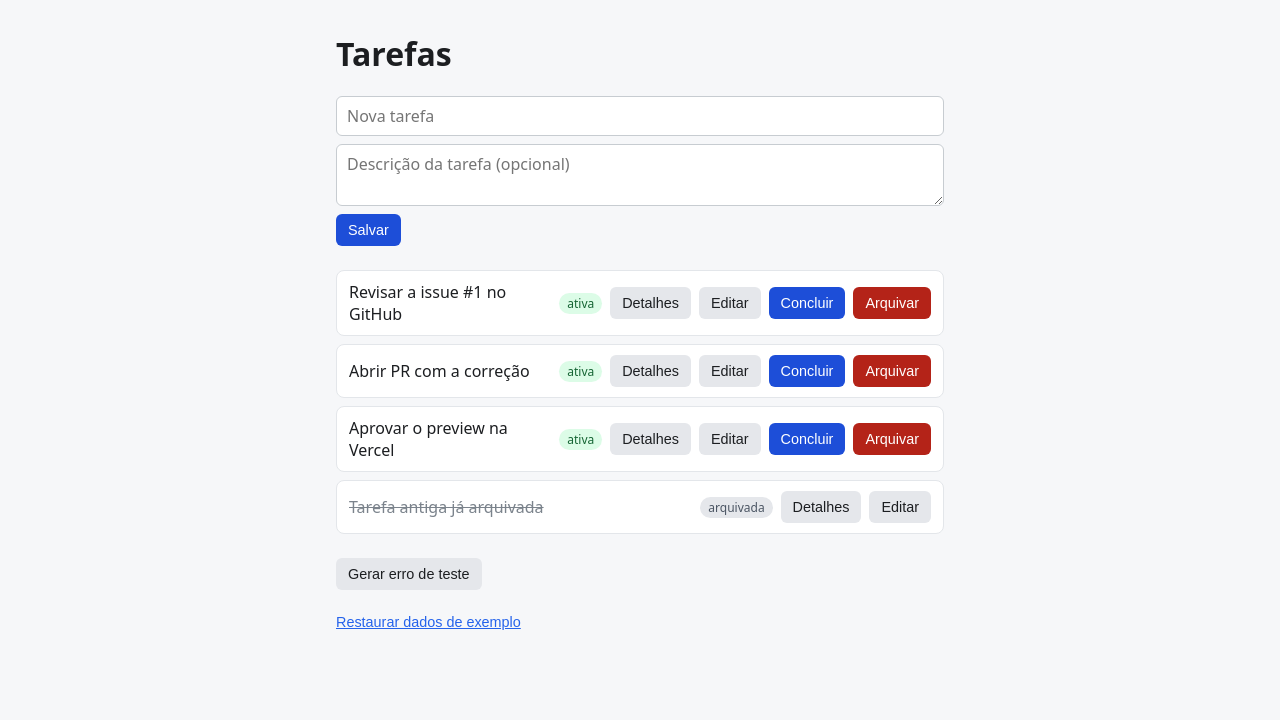
Page › envia um único erro de teste ao Sentry e preserva as tarefas
This screenshot has width=1280, height=720.
Click the button "Gerar erro de teste": (409, 574) [336,558,482,590]
(page scrolled)
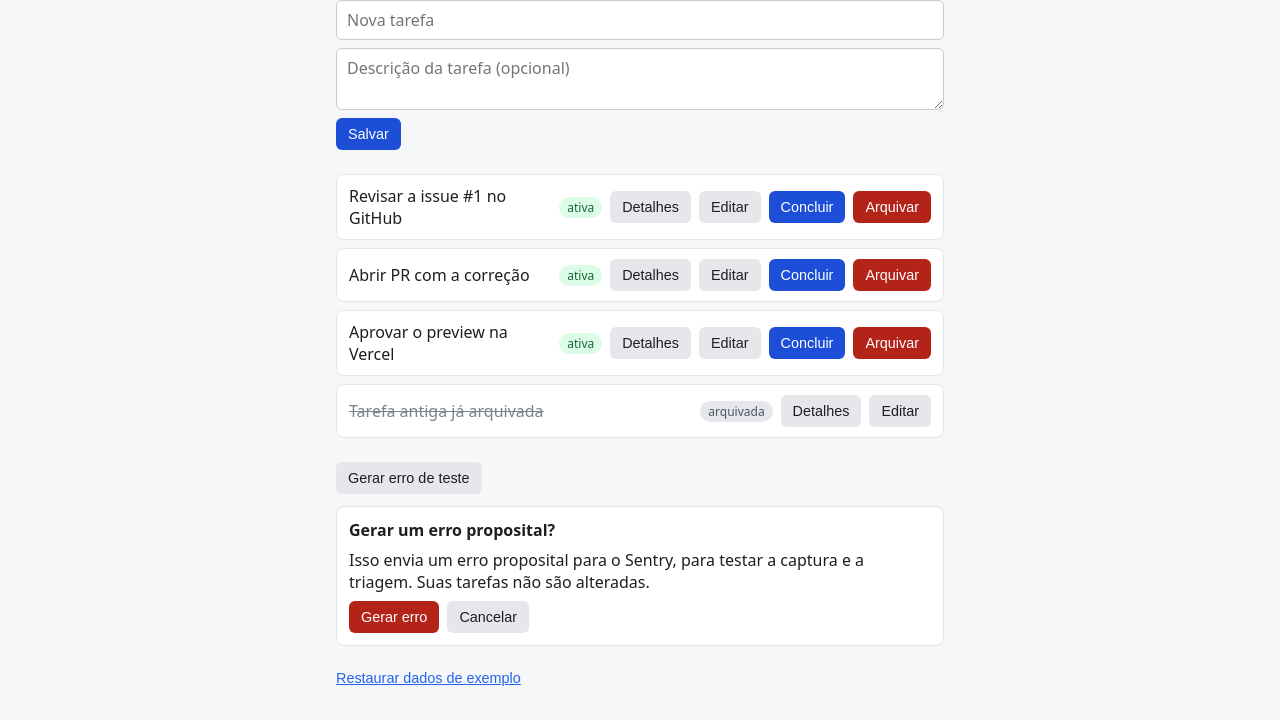
Click the button "Gerar erro": (394, 617) [349,601,439,633]
(page scrolled)
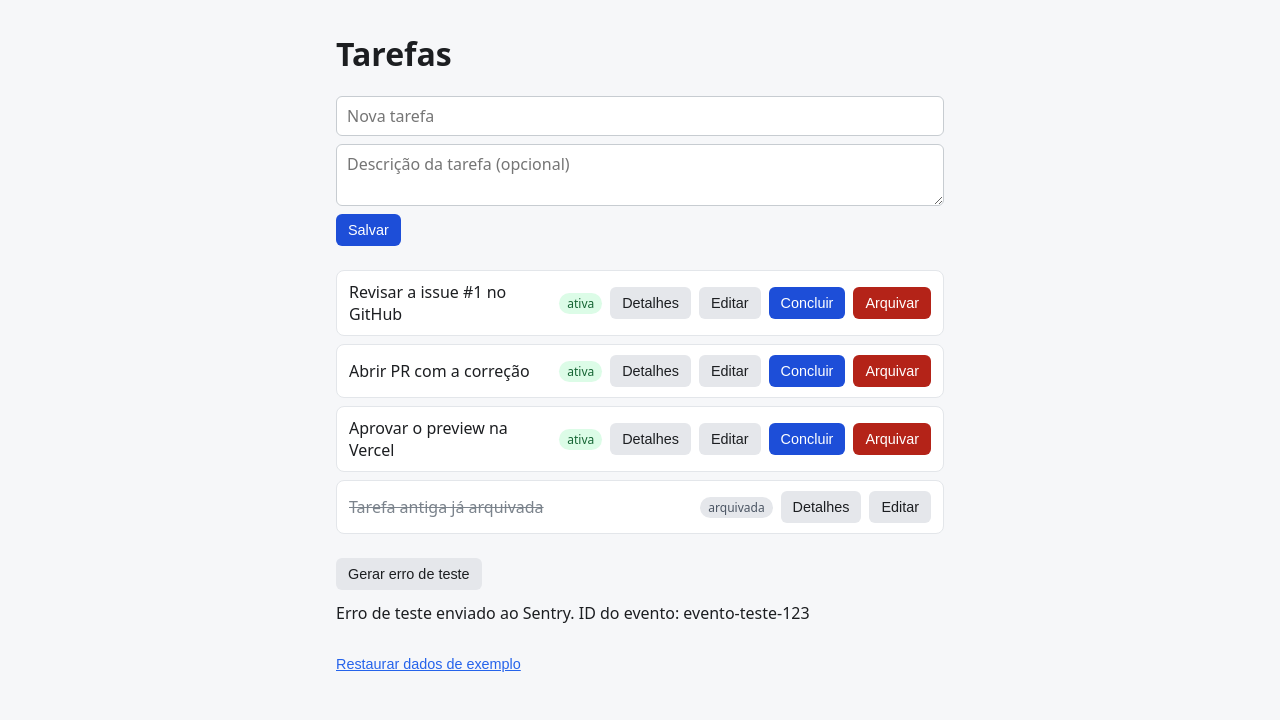
Expected: the number of list items is 4, [336,270,944,336]; [336,344,944,398]; [336,406,944,472]; [336,480,944,534]
Expected: the dialog is gone
Expected: the message shows "evento-teste-123", [336,602,810,624]
